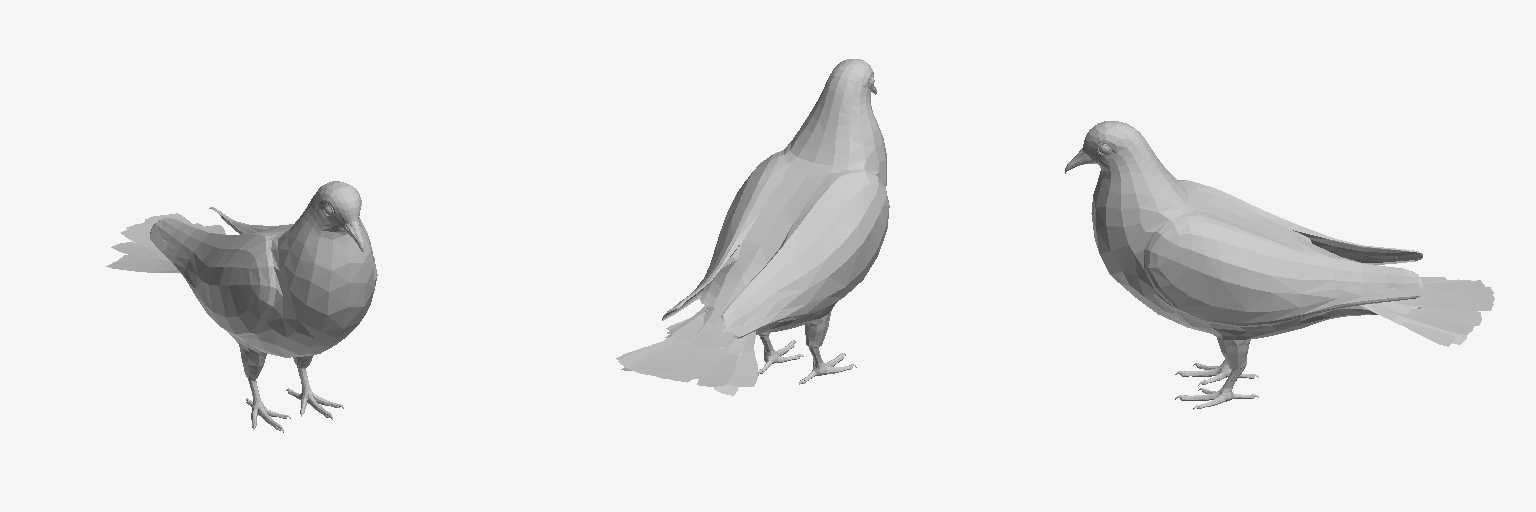
Rendered from uploads_files_2609480_Pigeon.obj.
The picture shows the model from 3 angles: view 1: azimuth 30°, elevation 25°; view 2: azimuth 150°, elevation 25°; view 3: azimuth 270°, elevation 25°; orthographic projection.
Visible parts, largest first — view 1: polySurface5_Untitled.001; view 2: polySurface5_Untitled.001; view 3: polySurface5_Untitled.001.
Part boxes in pixels (left/top/right/bottom): polySurface5_Untitled.001: left=106, top=181, right=377, bottom=432; polySurface5_Untitled.001: left=616, top=59, right=889, bottom=395; polySurface5_Untitled.001: left=1065, top=121, right=1494, bottom=409.
Size of the model in its own units: 2.29 by 4.28 by 6.28.